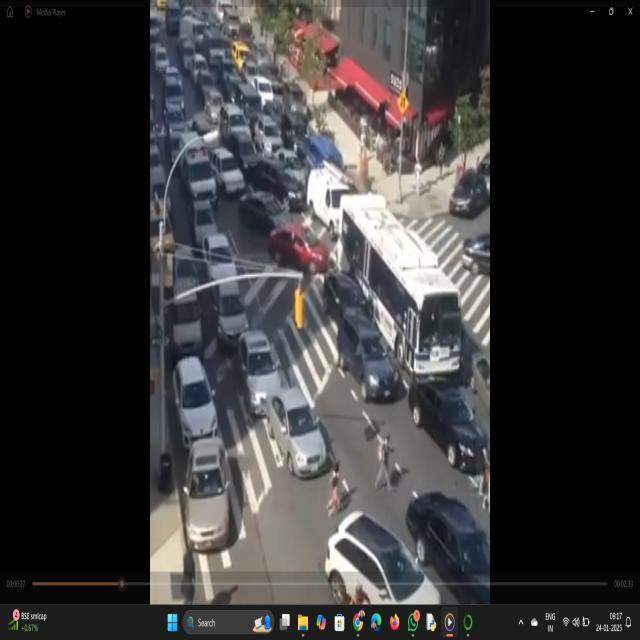Ambulance: (178, 128, 222, 202)
